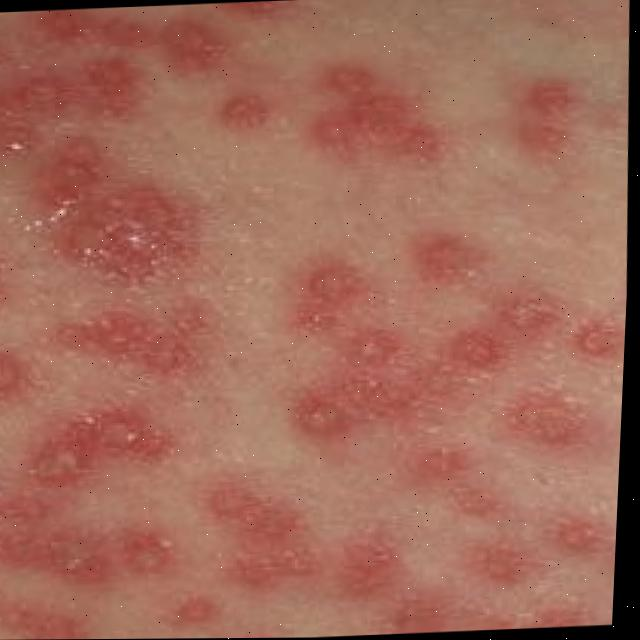Eczema: (0, 0, 632, 640)
